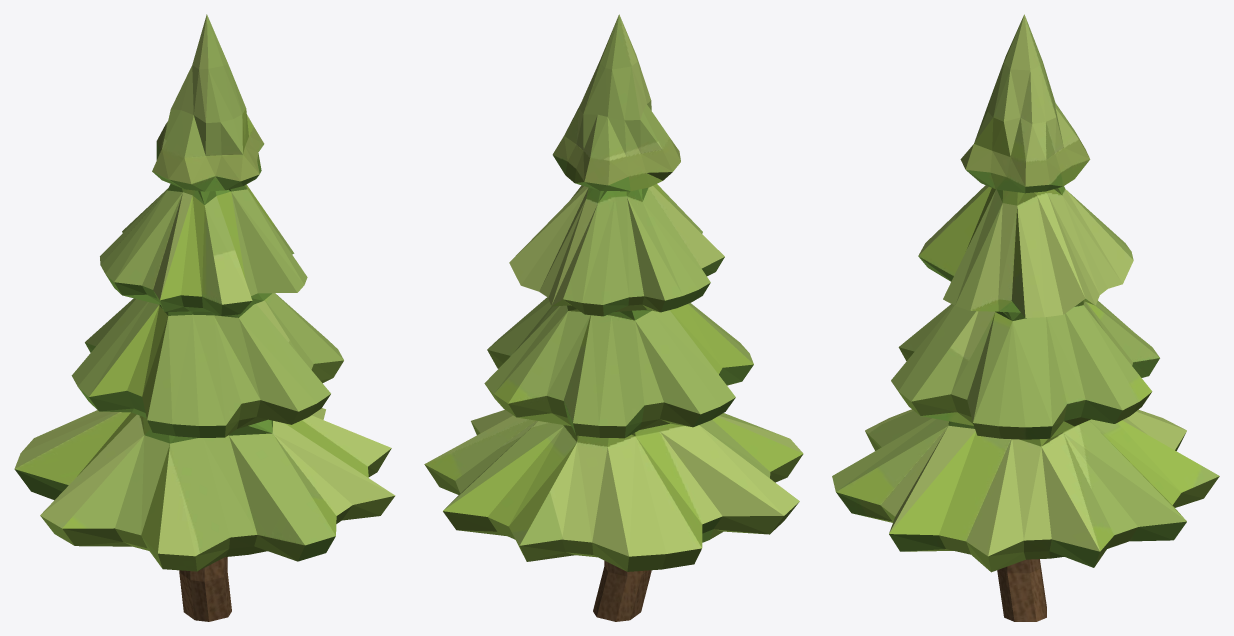
The model's file is tree9.glb.
The picture shows the model from 3 angles, left to right: view 1: azimuth 30°, elevation 25°; view 2: azimuth 150°, elevation 25°; view 3: azimuth 270°, elevation 25°; orthographic projection.
Visible parts, largest first — view 1: geometry_0; view 2: geometry_0; view 3: geometry_0.
Boxes of the visible parts, x1,y1,x2,y2 form: geometry_0: (14,14,395,621); geometry_0: (424,14,803,621); geometry_0: (832,14,1219,621).
Bounding box in the file's own units: 0.5932 × 1.02 × 0.599.
Materials: 1 (1 with a texture image).
